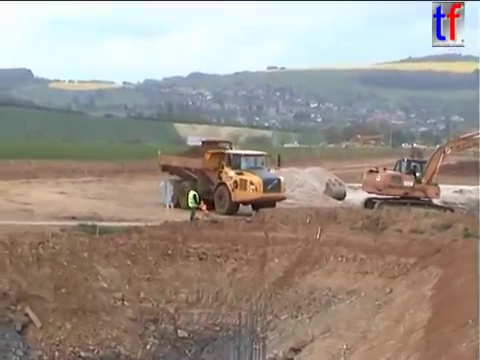excavator: (358, 128, 480, 224)
truck: (156, 147, 288, 216), (197, 137, 238, 178), (408, 144, 424, 162), (471, 149, 479, 158)
worker: (185, 182, 202, 224)
